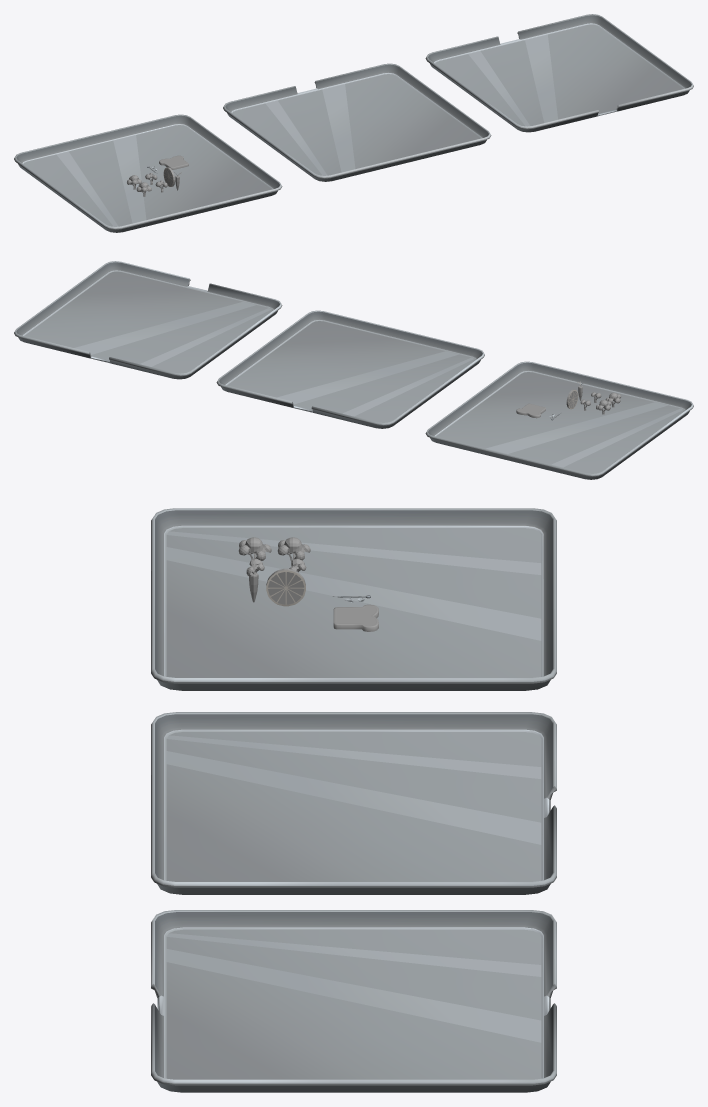
File: assets.fbx
The picture shows the model from 3 angles, top to bottom: view 1: azimuth 30°, elevation 25°; view 2: azimuth 150°, elevation 25°; view 3: azimuth 270°, elevation 25°; orthographic projection. The views are drawn at different scales.
Visible parts, largest first — view 1: Tray_2, Tray_3, Tray; view 2: Tray_2, Tray_3, Tray; view 3: Tray_2, Tray_3, Tray, Grapefruit, Bread.
Boxes of the visible parts, bbox=[...] form: Tray_2: bbox=[223, 63, 491, 181]; Tray_3: bbox=[425, 14, 693, 132]; Tray: bbox=[14, 114, 282, 232]; Tray_2: bbox=[216, 310, 484, 428]; Tray_3: bbox=[14, 261, 282, 379]; Tray: bbox=[425, 361, 693, 479]; Tray_2: bbox=[151, 712, 556, 894]; Tray_3: bbox=[151, 910, 556, 1092]; Tray: bbox=[151, 508, 556, 690]; Grapefruit: bbox=[266, 568, 305, 606]; Bread: bbox=[333, 604, 378, 631].
Bounding box in the file's own units: 1189 × 28243 × 8455.
